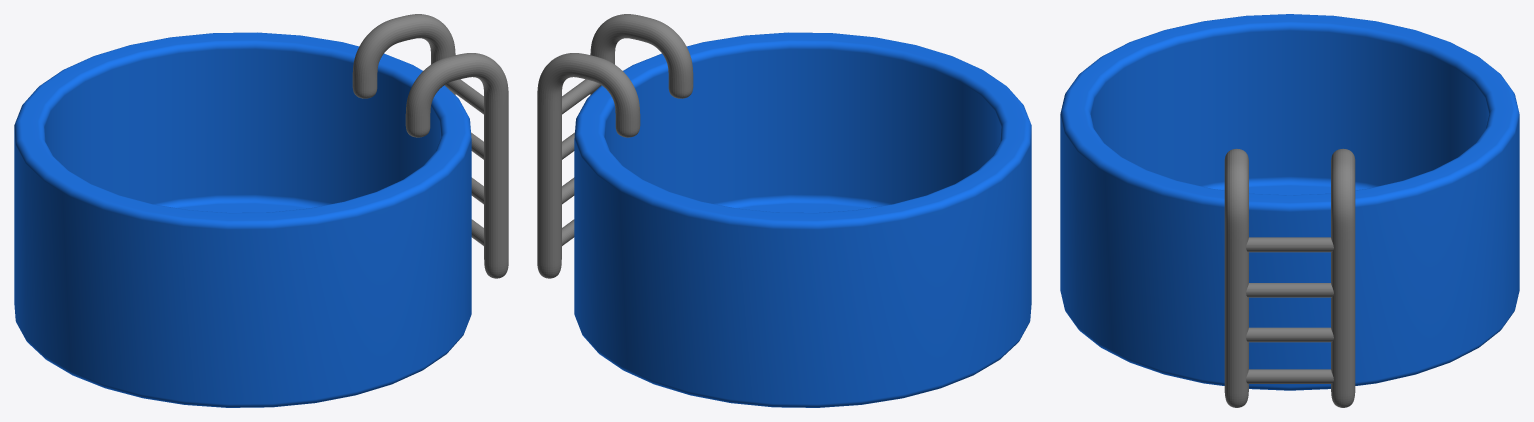
The model's file is Бассейн2.fbx.
3 renders of one model, left to right at view 1: azimuth 30°, elevation 25°; view 2: azimuth 150°, elevation 25°; view 3: azimuth 270°, elevation 25°, orthographic.
Parts seen in each view (by area): view 1: Бассейн; view 2: Бассейн; view 3: Бассейн.
Boxes of the visible parts, <box> form: Бассейн: <box>14,14,508,407</box>; Бассейн: <box>537,14,1031,407</box>; Бассейн: <box>1060,14,1519,407</box>.
Bounding box in the file's own units: 879 × 444 × 800.
